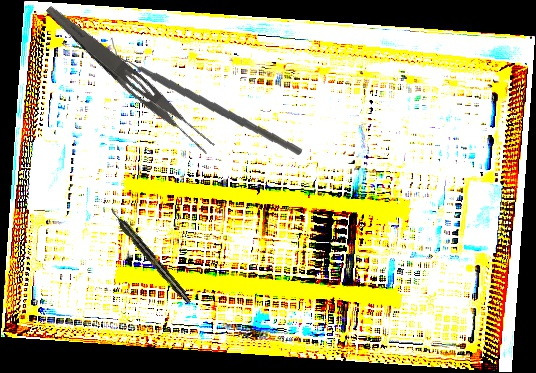Chopper: (109, 23, 304, 168)
Dressing Forceps: (38, 1, 219, 159)
Handpiece: (106, 205, 194, 306)
